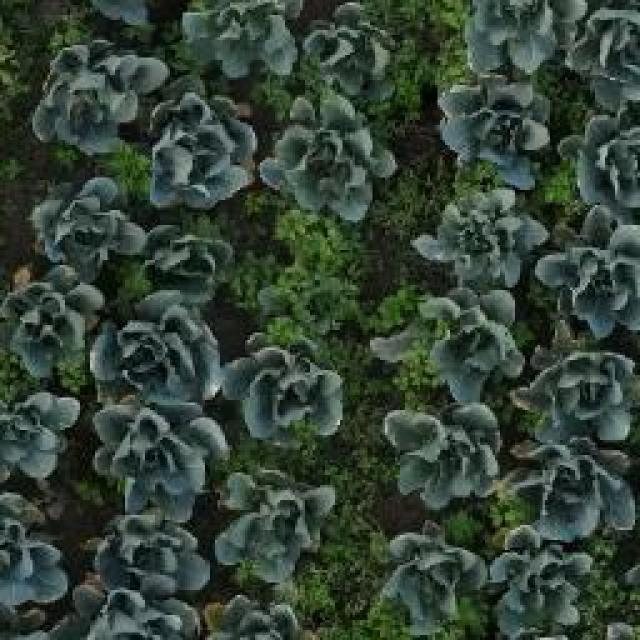cabbage: (262, 92, 396, 220), (138, 79, 260, 210), (90, 389, 227, 503), (505, 435, 640, 545), (90, 298, 221, 411), (221, 330, 348, 446), (36, 38, 167, 150), (437, 66, 552, 188), (216, 470, 338, 581), (535, 206, 640, 333), (486, 525, 602, 639), (377, 519, 488, 634), (0, 261, 109, 378), (385, 402, 503, 510), (405, 290, 523, 397), (30, 171, 148, 275), (418, 188, 544, 282), (92, 509, 214, 598), (527, 344, 640, 440), (177, 0, 300, 85), (128, 214, 235, 308), (300, 0, 396, 87), (0, 388, 82, 483), (479, 0, 562, 61), (578, 117, 640, 198), (595, 2, 640, 80)
